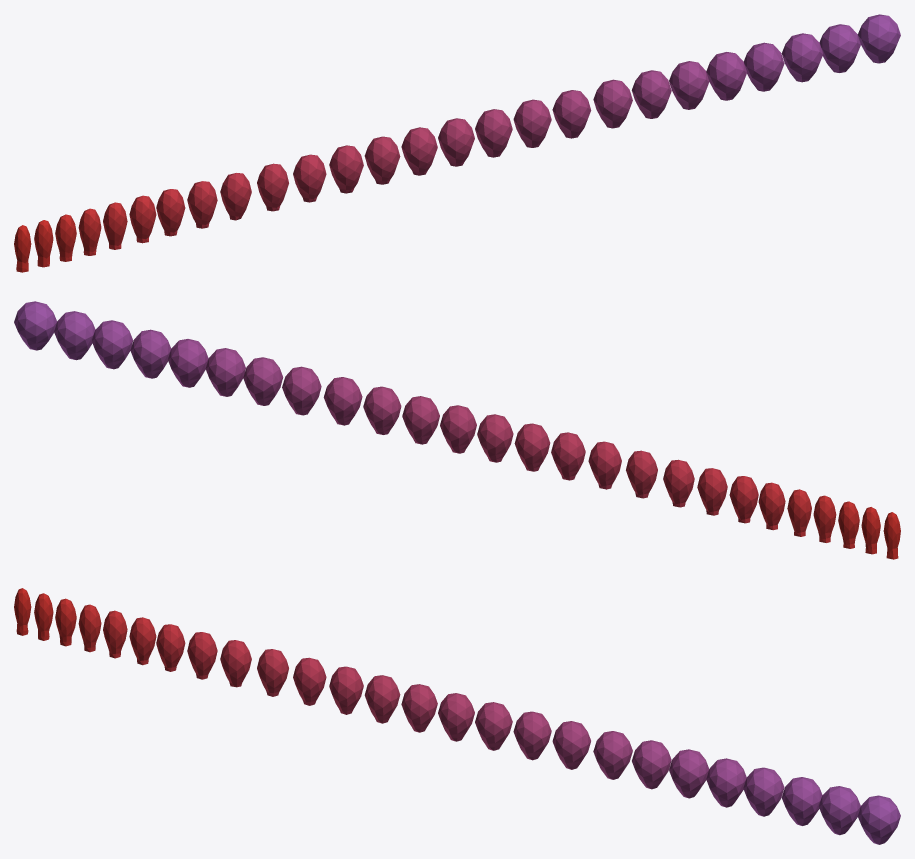
File: SM_hotairballoon_progression_AC.fbx
3 views of the same model, one above another, from view 1: azimuth 30°, elevation 25°; view 2: azimuth 150°, elevation 25°; view 3: azimuth 330°, elevation 25° (orthographic).
Visible parts, largest first — view 1: hot_air_balloon, hot_air_balloon1, hot_air_balloon2, hot_air_balloon3, hot_air_balloon4, hot_air_balloon5, hot_air_balloon6, hot_air_balloon7, hot_air_balloon8, hot_air_balloon9, hot_air_balloon10, hot_air_balloon11 (+14 smaller); view 2: hot_air_balloon, hot_air_balloon1, hot_air_balloon2, hot_air_balloon3, hot_air_balloon4, hot_air_balloon5, hot_air_balloon6, hot_air_balloon7, hot_air_balloon8, hot_air_balloon9, hot_air_balloon10, hot_air_balloon11 (+14 smaller); view 3: hot_air_balloon, hot_air_balloon1, hot_air_balloon3, hot_air_balloon2, hot_air_balloon4, hot_air_balloon5, hot_air_balloon6, hot_air_balloon7, hot_air_balloon8, hot_air_balloon9, hot_air_balloon10, hot_air_balloon11 (+14 smaller).
Boxes of the visible parts, x1=… form: hot_air_balloon: x1=857, y1=14, x2=900, y2=63; hot_air_balloon1: x1=819, y1=24, x2=860, y2=72; hot_air_balloon2: x1=781, y1=33, x2=823, y2=82; hot_air_balloon3: x1=743, y1=42, x2=784, y2=91; hot_air_balloon4: x1=706, y1=52, x2=746, y2=100; hot_air_balloon5: x1=669, y1=61, x2=709, y2=109; hot_air_balloon6: x1=631, y1=70, x2=671, y2=118; hot_air_balloon7: x1=593, y1=79, x2=632, y2=128; hot_air_balloon8: x1=552, y1=90, x2=591, y2=138; hot_air_balloon9: x1=513, y1=99, x2=551, y2=147; hot_air_balloon10: x1=475, y1=109, x2=512, y2=157; hot_air_balloon11: x1=438, y1=118, x2=474, y2=166; hot_air_balloon: x1=14, y1=301, x2=57, y2=350; hot_air_balloon1: x1=54, y1=311, x2=95, y2=360; hot_air_balloon2: x1=91, y1=320, x2=133, y2=369; hot_air_balloon3: x1=130, y1=329, x2=171, y2=378; hot_air_balloon4: x1=168, y1=339, x2=208, y2=387; hot_air_balloon5: x1=205, y1=348, x2=245, y2=396; hot_air_balloon6: x1=243, y1=357, x2=283, y2=405; hot_air_balloon7: x1=282, y1=366, x2=321, y2=415; hot_air_balloon8: x1=323, y1=377, x2=362, y2=425; hot_air_balloon9: x1=363, y1=386, x2=401, y2=434; hot_air_balloon10: x1=402, y1=396, x2=439, y2=444; hot_air_balloon11: x1=440, y1=405, x2=476, y2=453; hot_air_balloon: x1=857, y1=795, x2=900, y2=844; hot_air_balloon1: x1=818, y1=786, x2=860, y2=835; hot_air_balloon3: x1=743, y1=767, x2=784, y2=816; hot_air_balloon2: x1=781, y1=777, x2=822, y2=825; hot_air_balloon4: x1=706, y1=758, x2=746, y2=807; hot_air_balloon5: x1=669, y1=749, x2=709, y2=798; hot_air_balloon6: x1=632, y1=740, x2=671, y2=789; hot_air_balloon7: x1=593, y1=731, x2=632, y2=779; hot_air_balloon8: x1=552, y1=721, x2=590, y2=769; hot_air_balloon9: x1=513, y1=711, x2=551, y2=760; hot_air_balloon10: x1=475, y1=702, x2=512, y2=750; hot_air_balloon11: x1=438, y1=693, x2=474, y2=741.
Size of the model in its own units: 2050 by 84.87 by 100.
